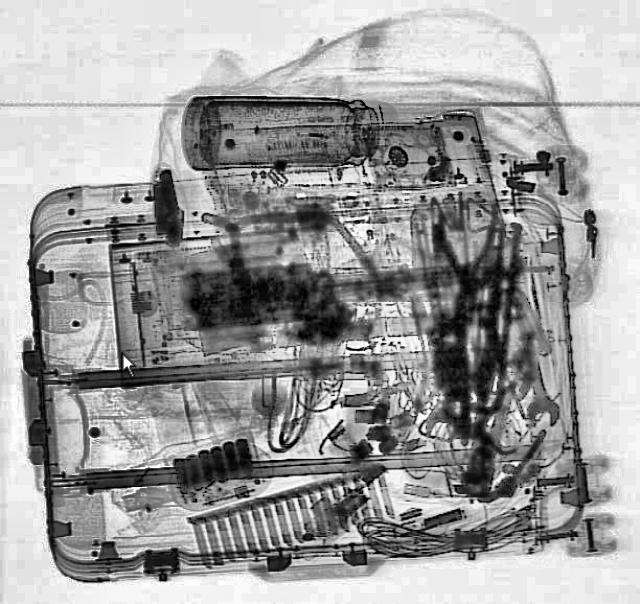Wrench: (508, 323, 560, 429)
